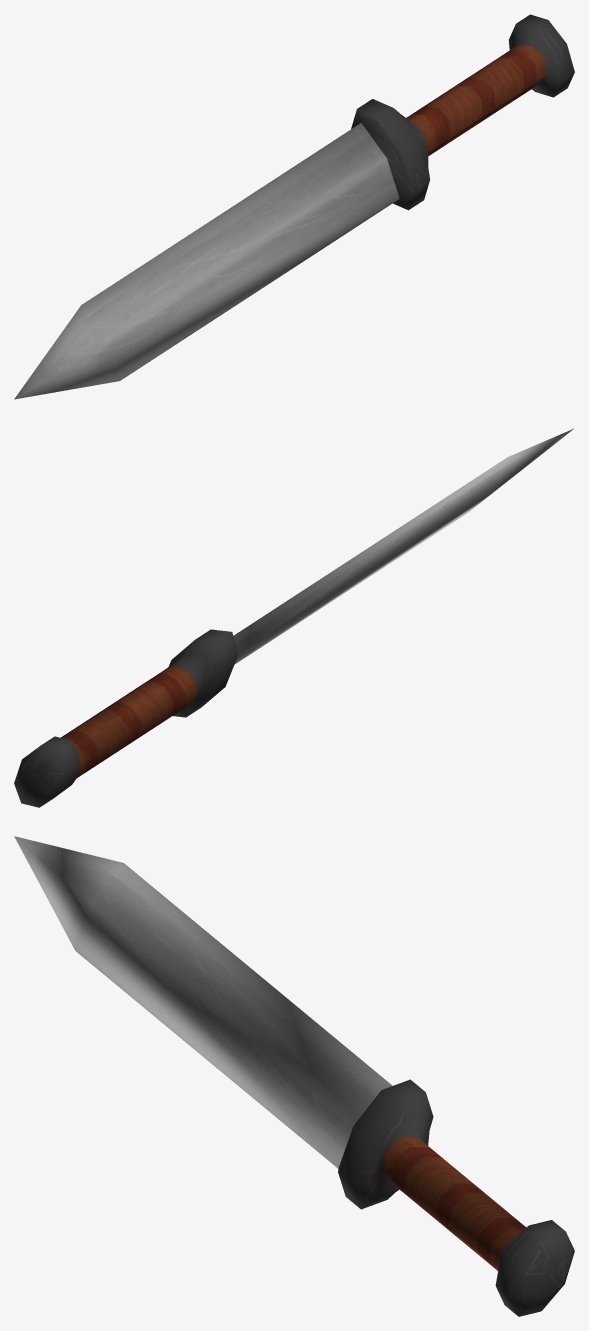
File: Short Sword.fbx
3 views of the same model, one above another, from view 1: azimuth 30°, elevation 25°; view 2: azimuth 210°, elevation 25°; view 3: azimuth 270°, elevation 25° (orthographic). The views are drawn at different scales.
Visible parts, largest first — view 1: Cylinder; view 2: Cylinder; view 3: Cylinder.
Part boxes in pixels (x1,y1,x2,y2): Cylinder: (14, 14, 574, 399); Cylinder: (14, 428, 573, 807); Cylinder: (14, 836, 574, 1316).
Bounding box in the file's own units: 39.68 × 4.29 × 21.13.
